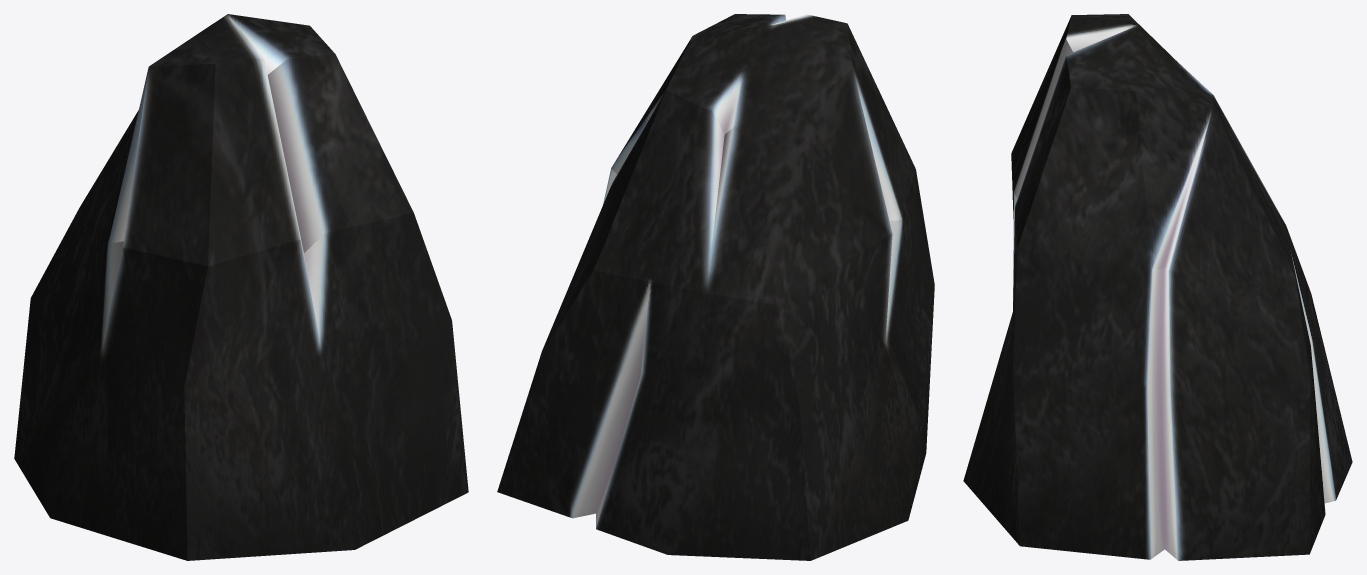
The model's file is SM_mithril_RESS.fbx.
3 renders of one model, left to right at view 1: azimuth 30°, elevation 25°; view 2: azimuth 150°, elevation 25°; view 3: azimuth 270°, elevation 25°, orthographic. The views are drawn at different scales.
Parts seen in each view (by area): view 1: SM_mithril_RESS; view 2: SM_mithril_RESS; view 3: SM_mithril_RESS.
Boxes of the visible parts, x1=… form: SM_mithril_RESS: x1=14, y1=14, x2=468, y2=560; SM_mithril_RESS: x1=497, y1=14, x2=934, y2=560; SM_mithril_RESS: x1=963, y1=14, x2=1352, y2=560.
Size of the model in its own units: 2 by 2.44 by 1.96.
